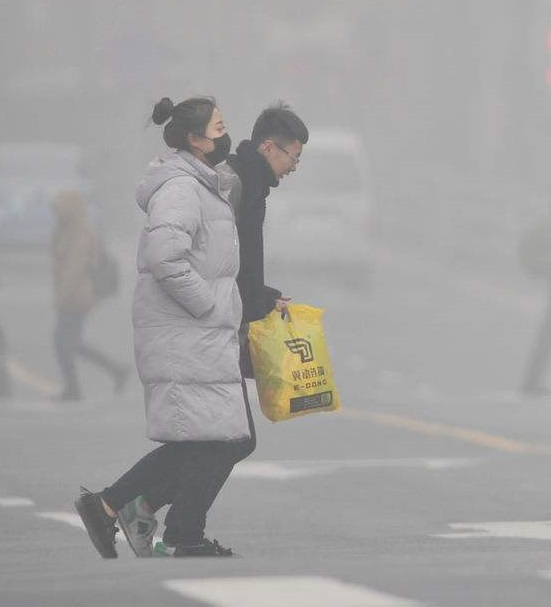person: (116, 104, 315, 562), (75, 93, 250, 563), (44, 189, 132, 405), (515, 207, 551, 401)
